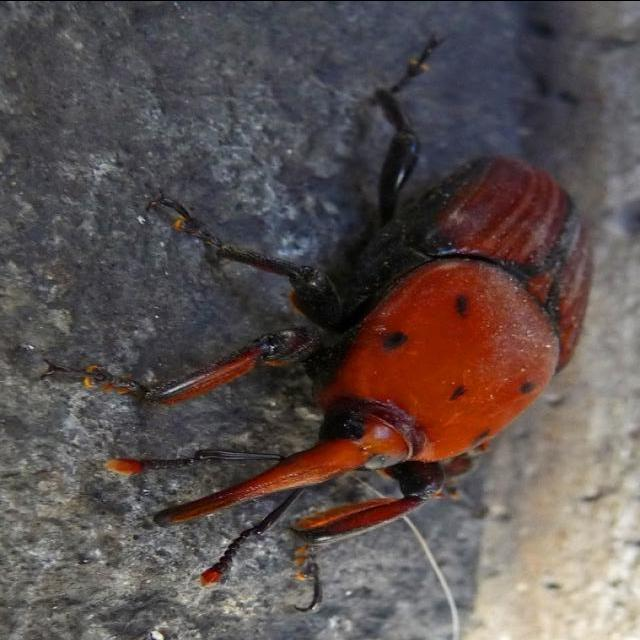Red-palm-weevil: (105, 145, 593, 594)
